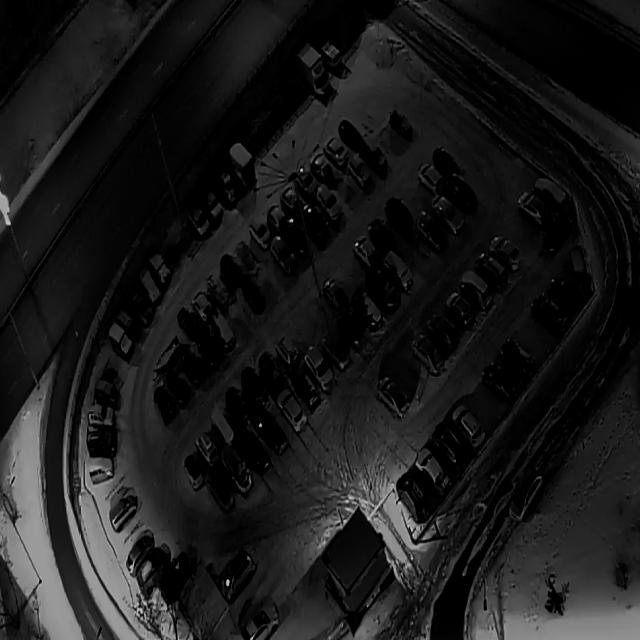car: (291, 39, 331, 100), (220, 544, 256, 606), (508, 470, 545, 530), (137, 541, 173, 600), (159, 551, 192, 606), (451, 402, 486, 453), (432, 421, 466, 472), (364, 266, 400, 314), (530, 291, 567, 337), (415, 446, 447, 498), (396, 473, 429, 523), (276, 386, 308, 436), (288, 363, 320, 412), (242, 601, 282, 640), (223, 444, 253, 496), (259, 407, 289, 458), (304, 344, 335, 393), (500, 338, 536, 380), (241, 426, 271, 476), (351, 288, 383, 334), (430, 194, 464, 237), (320, 326, 351, 373), (226, 141, 256, 189), (482, 362, 517, 403), (223, 383, 251, 434), (446, 170, 477, 216), (337, 306, 367, 353), (206, 307, 236, 354), (376, 374, 408, 418), (549, 276, 583, 317), (126, 531, 155, 579), (475, 252, 508, 294), (205, 468, 235, 514), (109, 491, 139, 536), (412, 332, 442, 376), (426, 312, 459, 352), (517, 190, 550, 230), (415, 210, 445, 254), (384, 250, 414, 294), (534, 174, 566, 215), (239, 365, 267, 411), (301, 201, 329, 246), (384, 194, 413, 237), (257, 349, 284, 395), (239, 271, 266, 317), (490, 232, 521, 272), (282, 219, 310, 263), (320, 274, 349, 316), (460, 270, 490, 310), (368, 216, 396, 258), (292, 162, 320, 204), (218, 250, 244, 295), (164, 371, 192, 412), (270, 233, 296, 277), (108, 321, 135, 363), (359, 136, 388, 175), (431, 145, 460, 184), (316, 182, 343, 223), (351, 234, 380, 272), (196, 328, 221, 372), (195, 428, 222, 468), (128, 286, 153, 329), (136, 266, 162, 307), (86, 425, 117, 459), (275, 331, 300, 372), (205, 268, 230, 309), (198, 186, 224, 225), (307, 147, 333, 186), (215, 165, 239, 207), (416, 161, 444, 197), (152, 384, 176, 426), (147, 250, 172, 290), (210, 408, 235, 448), (337, 118, 364, 155), (446, 290, 472, 328), (247, 214, 273, 252), (323, 134, 349, 171), (187, 201, 211, 241), (176, 305, 200, 345), (278, 179, 302, 219), (182, 348, 205, 389), (348, 152, 372, 190), (190, 286, 214, 324), (88, 401, 116, 432), (318, 38, 342, 74), (264, 201, 288, 237), (88, 456, 116, 486), (389, 106, 413, 141), (183, 452, 204, 492), (94, 376, 120, 408)
